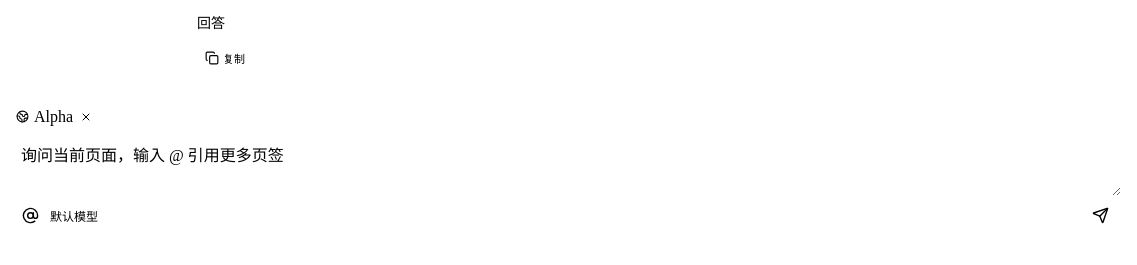
Test: multi-tab chat › shows a friendly copy error when Clipboard API is unavailable
This screenshot has width=1137, height=265.
What coordinates should you click on to do the following:
click the button with aria-label "复制回答：回答"
I would click on:
 (225, 58)
Its box is [197,44,253,72].
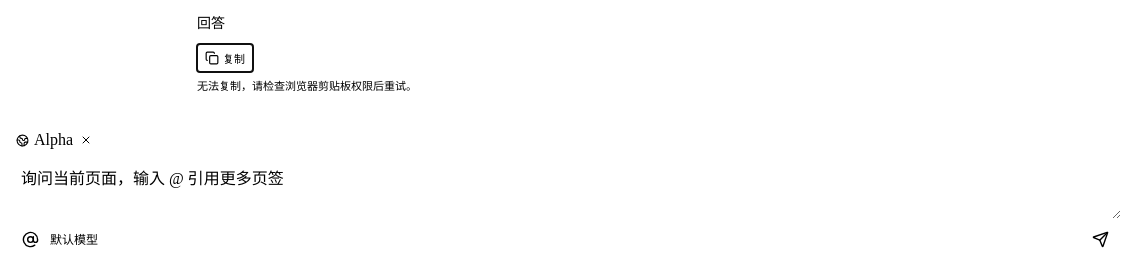
Now the message shows "无法复制", box [197,80,417,92]
